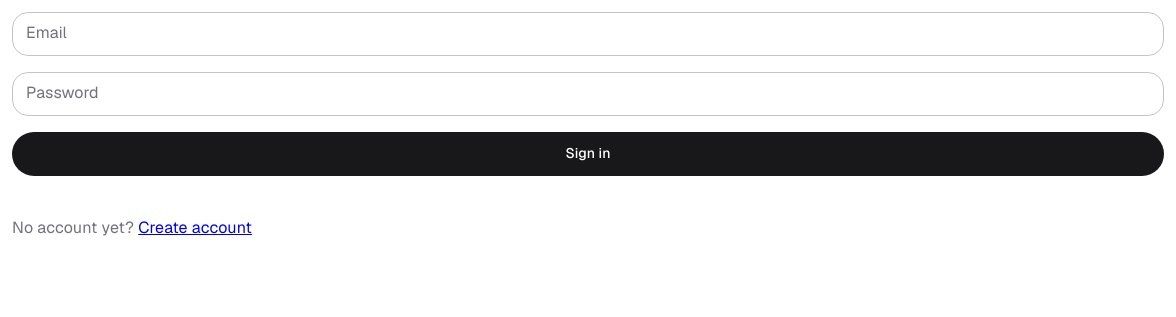
Scenario: LoginForm › shows a generic error when login fails for another reason
Type "ada@example.com" into the field labelled "Email". click: (588, 34)
box: x1=12 y1=14 x2=1164 y2=54
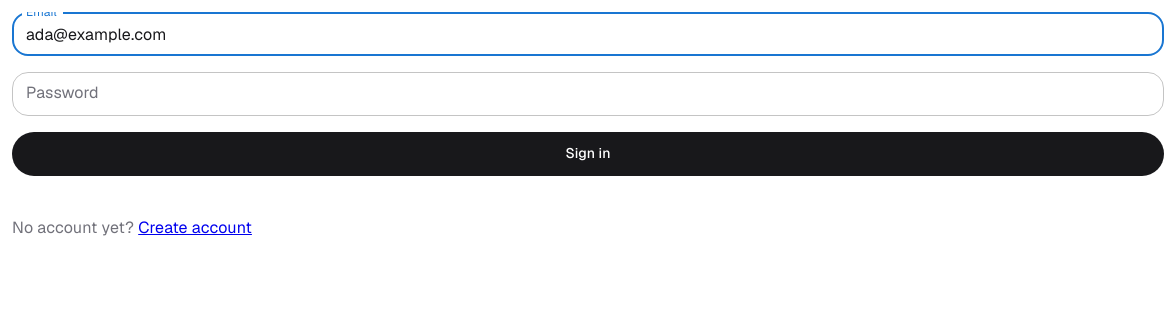
Type "long-enough" into the password field labelled "Password". click: (588, 94)
box: x1=12 y1=74 x2=1164 y2=114
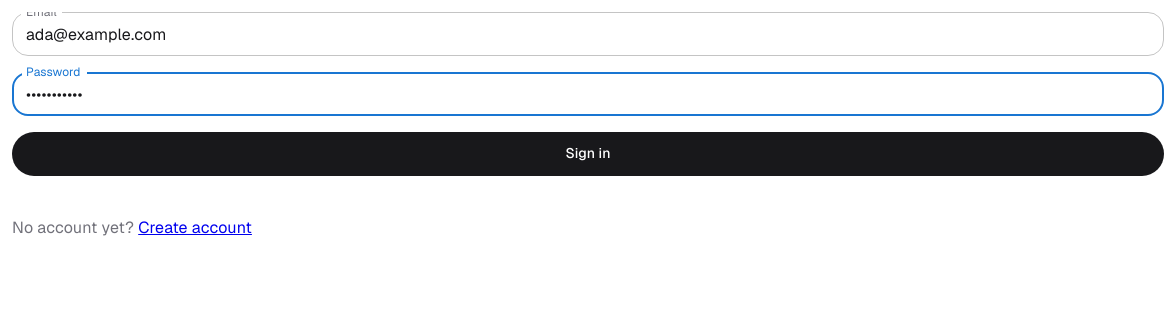
Click the button "Sign in". click: (588, 154)
box: x1=12 y1=132 x2=1164 y2=176
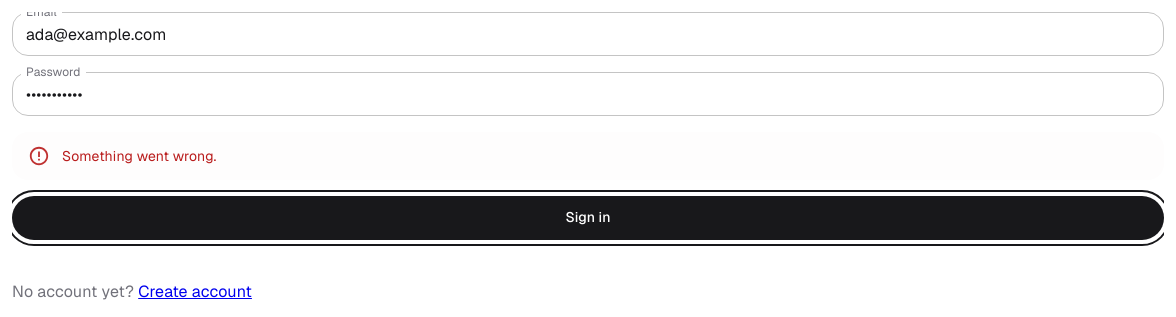
Check: the message reads "Something went wrong.", box x1=62 y1=147 x2=217 y2=165
